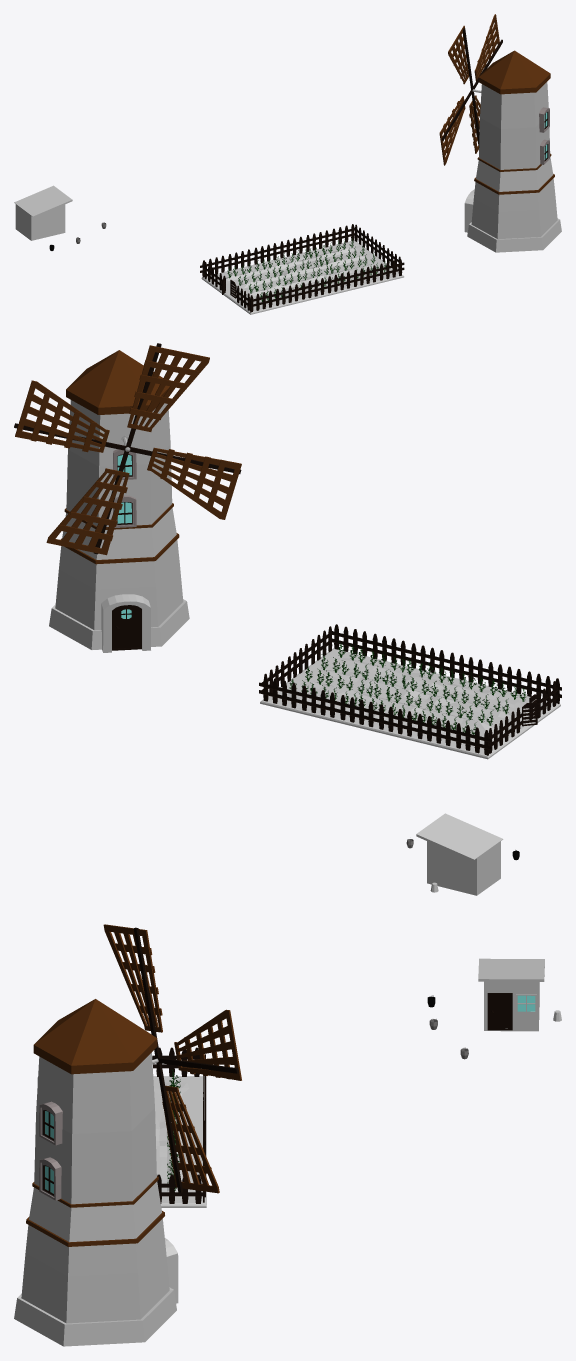
File: molino.obj
3 views of the same model, one above another, from view 1: azimuth 30°, elevation 25°; view 2: azimuth 150°, elevation 25°; view 3: azimuth 270°, elevation 25° (orthographic). The views are drawn at different scales.
Parts seen in each view (by area): view 1: stump.002; view 2: stump.002; view 3: stump.002.
Part boxes in pixels (bbox=[...]): stump.002: bbox=[14, 14, 561, 314]; stump.002: bbox=[14, 343, 561, 895]; stump.002: bbox=[14, 924, 561, 1346].
Bounding box in the file's own units: 139 × 67.01 × 93.75.
